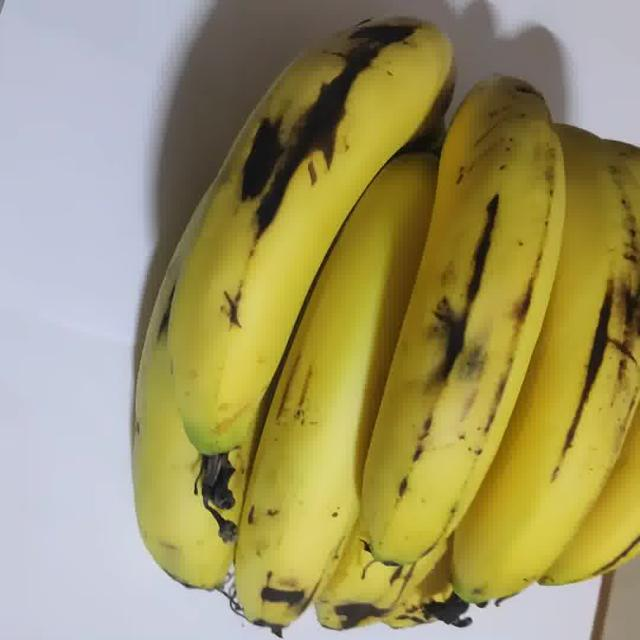banana_pacche: (117, 13, 640, 640)
